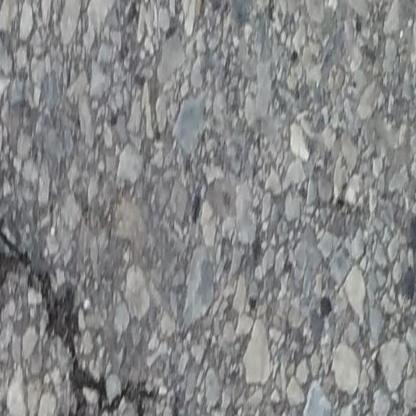Cracks: (0, 216, 164, 416)
